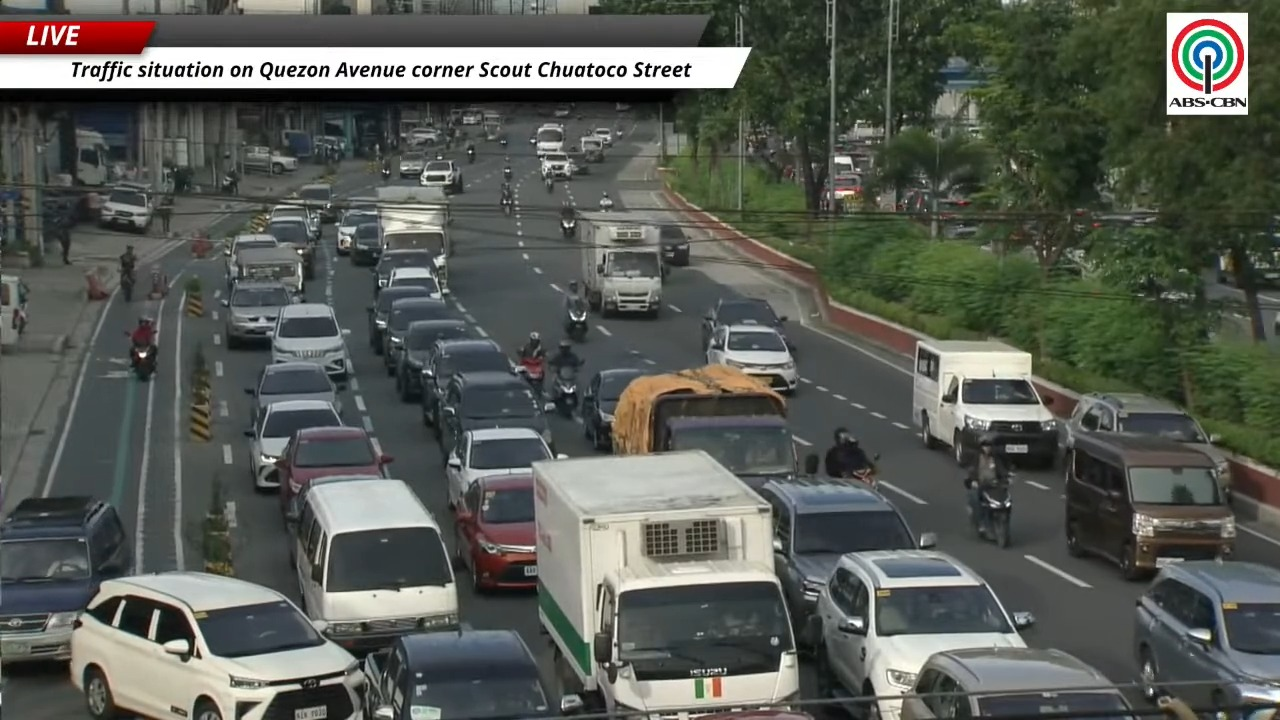car: (70, 572, 364, 719), (813, 550, 1033, 716), (757, 478, 935, 630), (1064, 433, 1237, 579), (0, 496, 132, 663), (1134, 561, 1279, 708), (364, 628, 582, 719), (1058, 392, 1231, 502), (900, 647, 1133, 719), (437, 369, 553, 460), (274, 426, 392, 514), (454, 472, 536, 591), (283, 474, 387, 564), (422, 338, 513, 437), (245, 400, 343, 490), (446, 427, 553, 506), (395, 319, 474, 401), (706, 323, 798, 393), (244, 361, 341, 425), (271, 303, 350, 380), (382, 297, 458, 375), (581, 368, 645, 450), (701, 297, 794, 353), (223, 281, 293, 348), (366, 285, 429, 353), (264, 217, 314, 279), (224, 233, 278, 286), (372, 249, 434, 294), (99, 187, 152, 232), (268, 200, 320, 240), (337, 207, 376, 254), (387, 266, 444, 298), (298, 183, 337, 222), (350, 217, 381, 265), (419, 160, 464, 193), (659, 223, 689, 266), (541, 152, 573, 179), (398, 151, 426, 178), (407, 127, 440, 146), (593, 127, 613, 146), (460, 108, 482, 125), (553, 105, 572, 118)
motorcycle: (970, 479, 1010, 548), (841, 454, 880, 490), (553, 366, 577, 417), (517, 357, 544, 397), (131, 344, 154, 381), (564, 306, 587, 342), (120, 270, 135, 302), (220, 174, 237, 194), (560, 217, 576, 238), (501, 197, 512, 215), (544, 175, 554, 192), (599, 199, 613, 211), (503, 166, 512, 180), (381, 168, 390, 181), (468, 149, 475, 163), (500, 138, 507, 147)
truck: (533, 451, 798, 716), (611, 365, 796, 488), (912, 340, 1057, 465), (579, 211, 663, 317), (376, 186, 451, 292), (75, 128, 110, 186), (241, 145, 297, 174), (534, 123, 566, 159), (281, 129, 312, 160)
